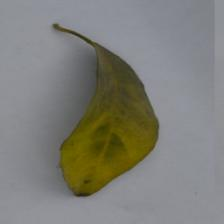greening: (56, 96, 165, 196)
